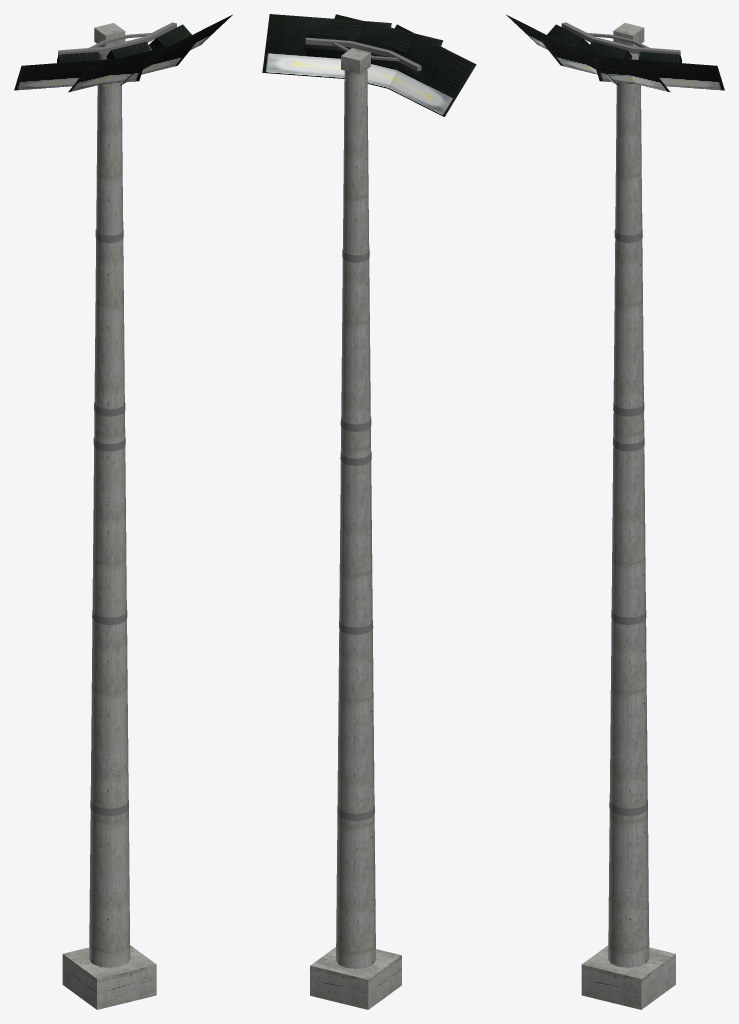
File: Poste3.FBX
The picture shows the model from 3 angles, left to right: view 1: azimuth 30°, elevation 25°; view 2: azimuth 150°, elevation 25°; view 3: azimuth 330°, elevation 25°; orthographic projection. The views are drawn at different scales.
Visible parts, largest first — view 1: Poste3A, Poste3Brilho; view 2: Poste3A, Poste3Brilho; view 3: Poste3A, Poste3Brilho.
Boxes of the visible parts, x1=… form: Poste3A: x1=57, y1=22, x2=191, y2=1009; Poste3Brilho: x1=14, y1=14, x2=232, y2=92; Poste3A: x1=304, y1=34, x2=438, y2=1009; Poste3Brilho: x1=262, y1=14, x2=476, y2=116; Poste3A: x1=547, y1=22, x2=681, y2=1009; Poste3Brilho: x1=506, y1=14, x2=724, y2=92.
Size of the model in its own units: 2.38 by 10.33 by 1.1.
3 materials, 2 textured.
